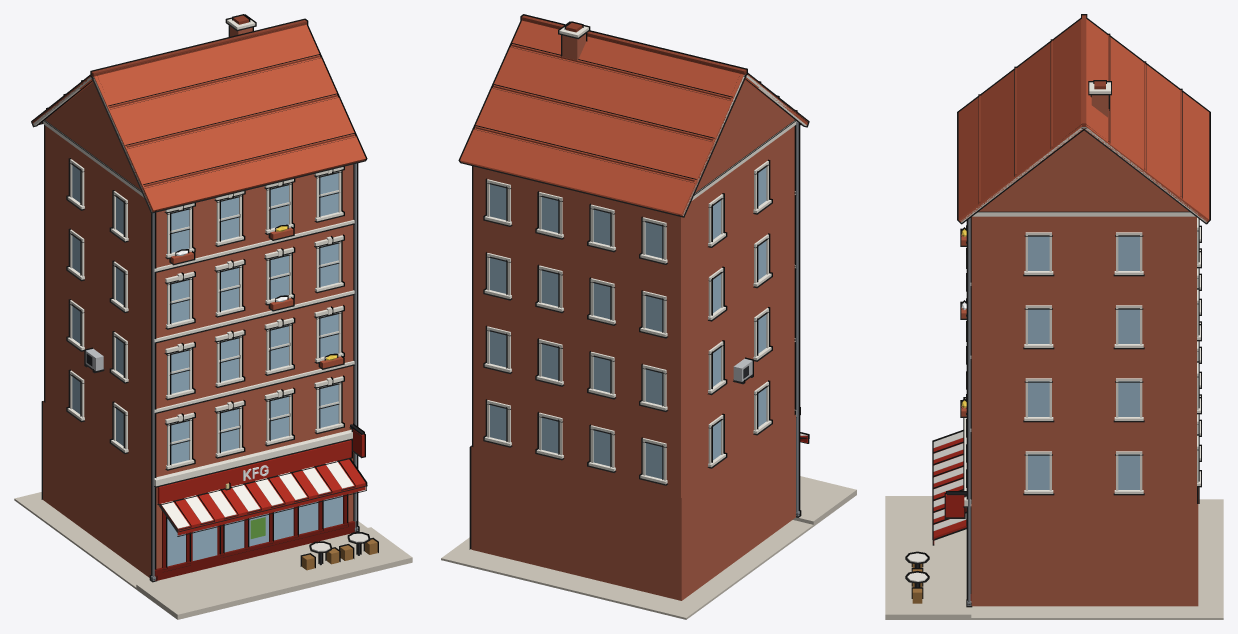
Rendered from Dukkan_kfg.fbx.
3 renders of one model, left to right at view 1: azimuth 30°, elevation 25°; view 2: azimuth 150°, elevation 25°; view 3: azimuth 270°, elevation 25°, orthographic. The views are drawn at different scales.
Visible parts, largest first — view 1: Dukkan_kfg; view 2: Dukkan_kfg; view 3: Dukkan_kfg.
Boxes of the visible parts, left/top/right/bottom form: Dukkan_kfg: left=14, top=14, right=412, bottom=619; Dukkan_kfg: left=441, top=14, right=856, bottom=619; Dukkan_kfg: left=885, top=14, right=1223, bottom=619.
Size of the model in its own units: 10.46 by 20.66 by 12.6.
